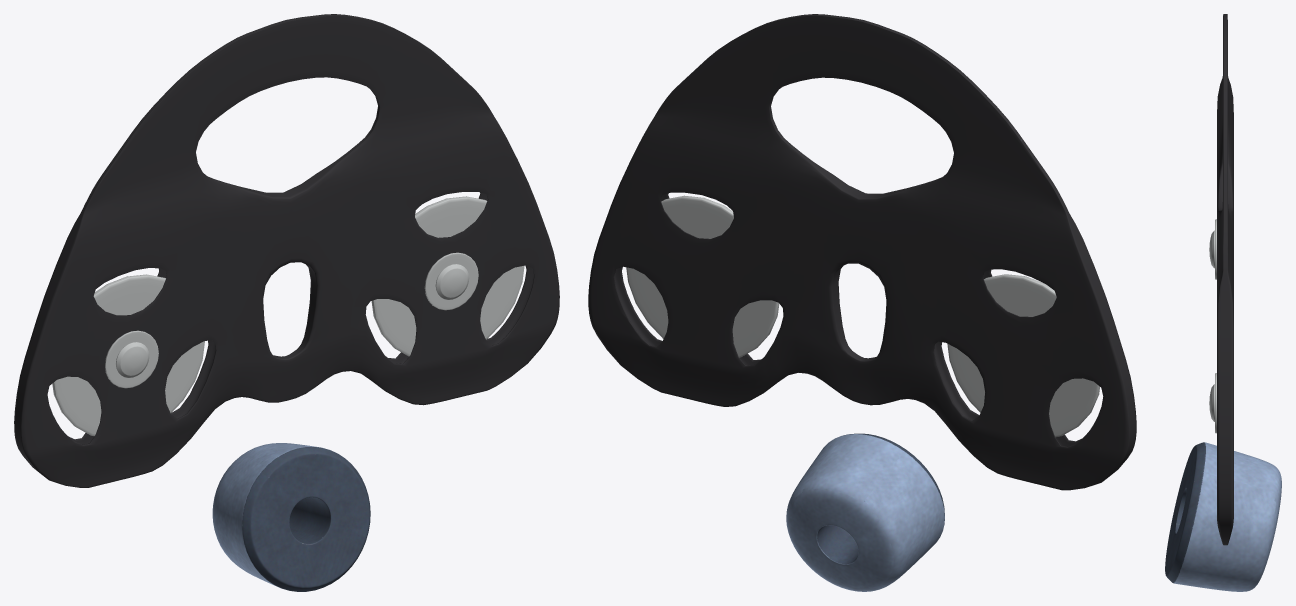
The picture shows the model from 3 angles, left to right: view 1: azimuth 30°, elevation 25°; view 2: azimuth 150°, elevation 25°; view 3: azimuth 270°, elevation 25°; orthographic projection. The views are drawn at different scales.
Parts seen in each view (by area): view 1: base_plate, bearing, polySurface2, polySurface1; view 2: base_plate, polySurface1, bearing, polySurface2; view 3: polySurface1, base_plate, polySurface2, bearing.
Part boxes in pixels (bbox=[...]): base_plate: bbox=[14, 14, 559, 487]; bearing: bbox=[52, 196, 524, 436]; polySurface2: bbox=[242, 447, 370, 591]; polySurface1: bbox=[212, 443, 322, 588]; base_plate: bbox=[588, 14, 1136, 490]; polySurface1: bbox=[786, 434, 944, 591]; bearing: bbox=[626, 195, 1099, 437]; polySurface2: bbox=[817, 433, 944, 564]; polySurface1: bbox=[1174, 442, 1281, 591]; base_plate: bbox=[1217, 14, 1233, 545]; polySurface2: bbox=[1165, 442, 1205, 583]; bearing: bbox=[1209, 219, 1216, 433].
Bounding box in the file's own units: 8.8 × 8.74 × 1.68.
Materials: 1 (1 with a texture image).
